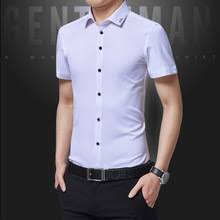F_belt: (62, 166, 150, 180)
F_shirt: (54, 5, 180, 170)
